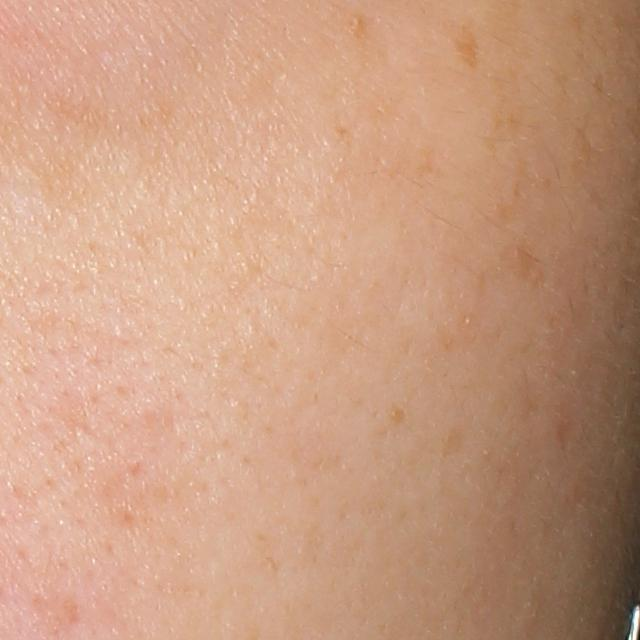melasma: (437, 15, 485, 73)
